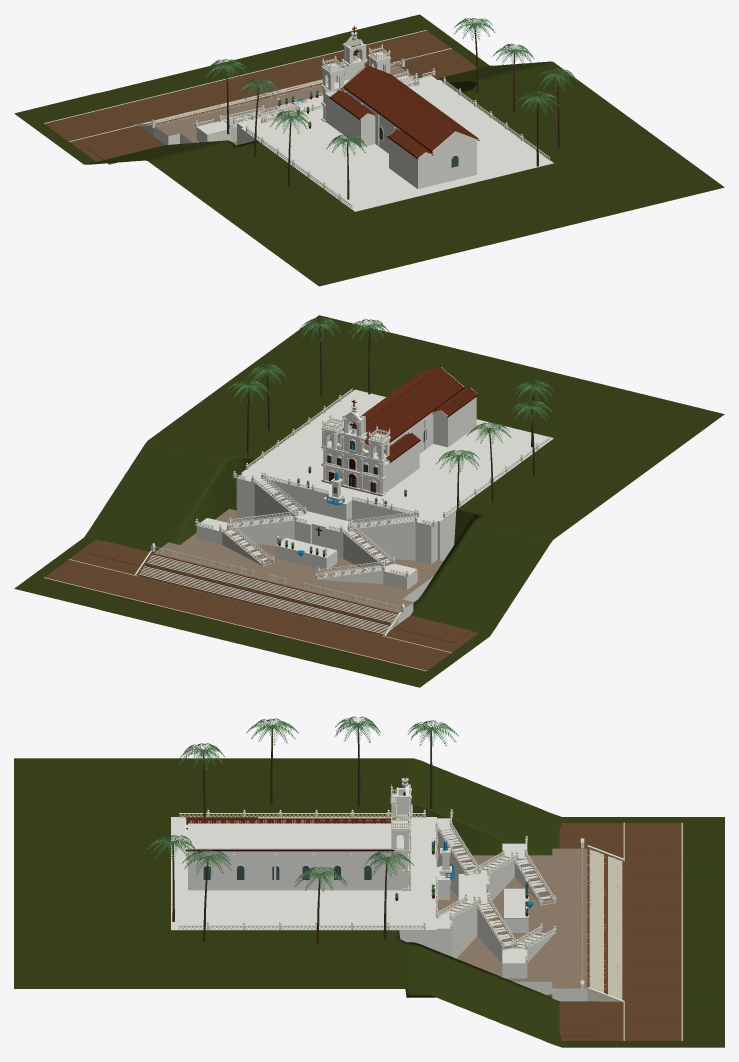
Rendered from Panaji-Immaculate-Conception.glb.
3 views of the same model, one above another, from view 1: azimuth 30°, elevation 25°; view 2: azimuth 150°, elevation 25°; view 3: azimuth 270°, elevation 25° (orthographic). The views are drawn at different scales.
Visible parts, largest first — view 1: terrain, retaining, square, vegetation (×3), roof, building, walk-platform, rail, tower, road-step-support, architecture, curb (+3 smaller); view 2: terrain, retaining, square, walk-platform, vegetation (×3), sloping-stair-wall, road-step-support, road-step-stone, rail, roof, architecture (×2), building (+7 smaller); view 3: terrain, retaining, square, building, walk-platform, vegetation (×3), rail, road-step-support, sloping-stair-wall, roof (×2), architecture (×2), stair-support (+5 smaller).
Part boxes in pixels (x1,y1,x2,y2): terrain: (14, 14, 724, 286); retaining: (153, 75, 553, 211); square: (43, 30, 476, 164); vegetation (×3): (205, 18, 579, 199); roof: (330, 64, 478, 157); building: (325, 79, 476, 188); walk-platform: (155, 65, 530, 169); rail: (195, 68, 550, 208); tower: (323, 42, 390, 90); road-step-support: (138, 64, 395, 135); architecture: (321, 48, 390, 121); curb: (44, 30, 451, 141); terrain: (14, 315, 724, 687); retaining: (196, 389, 553, 623); square: (43, 540, 478, 671); walk-platform: (154, 458, 526, 612); vegetation (×3): (227, 318, 553, 523); sloping-stair-wall: (221, 478, 417, 583); road-step-support: (138, 554, 398, 635); road-step-stone: (137, 554, 397, 635); rail: (195, 388, 549, 578); roof: (330, 366, 477, 461); architecture (×2): (317, 417, 426, 538); building: (327, 397, 476, 492); terrain: (14, 758, 724, 1047); retaining: (171, 817, 587, 1001); square: (547, 823, 683, 1041); building: (188, 820, 403, 890); walk-platform: (437, 848, 587, 988); vegetation (×3): (146, 716, 458, 943); rail: (179, 809, 556, 959); road-step-support: (587, 849, 622, 1001); sloping-stair-wall: (437, 827, 554, 962); roof (×2): (185, 817, 394, 851); architecture (×2): (190, 788, 451, 890); stair-support: (438, 828, 553, 949).
Size of the model in its own units: 106 by 34.56 by 138.
Materials: 26 (14 with a texture image).
